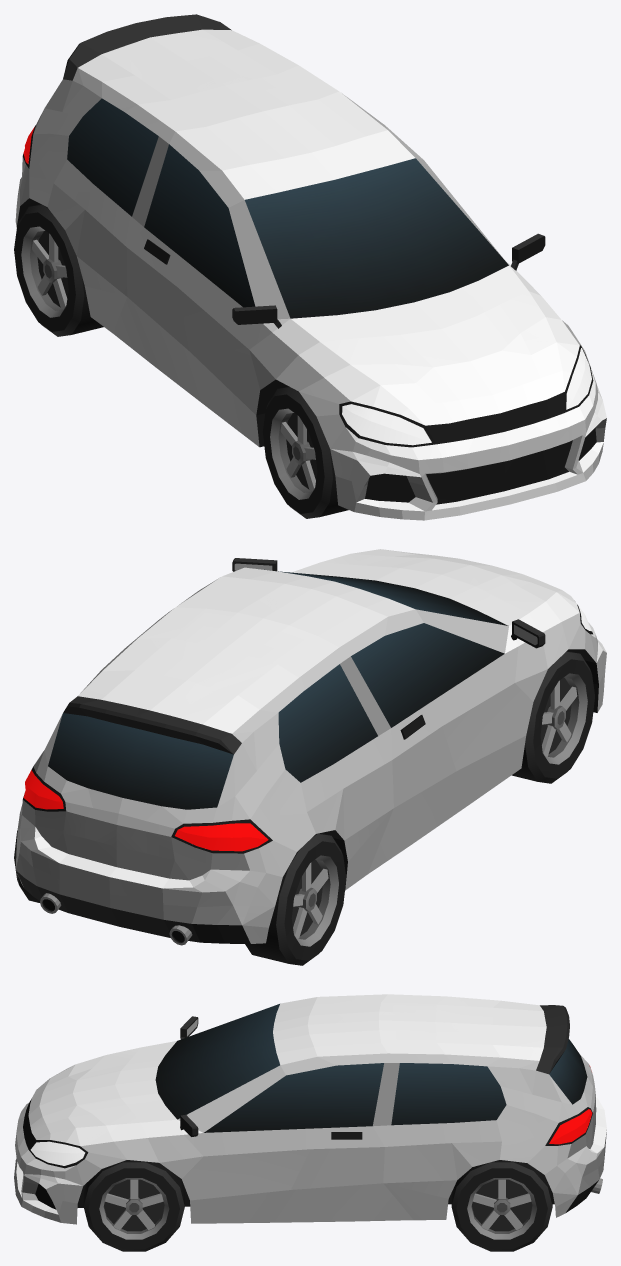
File: car_golf.glb
3 views of the same model, one above another, from view 1: azimuth 30°, elevation 25°; view 2: azimuth 150°, elevation 25°; view 3: azimuth 270°, elevation 25° (orthographic). The views are drawn at different scales.
Visible parts, largest first — view 1: Chassis_Body, Wheel_RR, Wheel_FR; view 2: Chassis_Body, Wheel_RR, Wheel_FR; view 3: Chassis_Body, Wheel_FL, Wheel_RL.
Boxes of the visible parts, x1,y1,x2,y2 form: Chassis_Body: [15, 14, 606, 520]; Wheel_RR: [14, 204, 103, 336]; Wheel_FR: [262, 386, 348, 518]; Chassis_Body: [15, 549, 606, 945]; Wheel_RR: [245, 833, 346, 965]; Wheel_FR: [512, 650, 594, 783]; Chassis_Body: [14, 994, 606, 1224]; Wheel_FL: [83, 1160, 184, 1251]; Wheel_RL: [451, 1160, 552, 1251].
Bounding box in the file's own units: 1.92 × 1.47 × 4.28.
2 materials, 2 textured.
